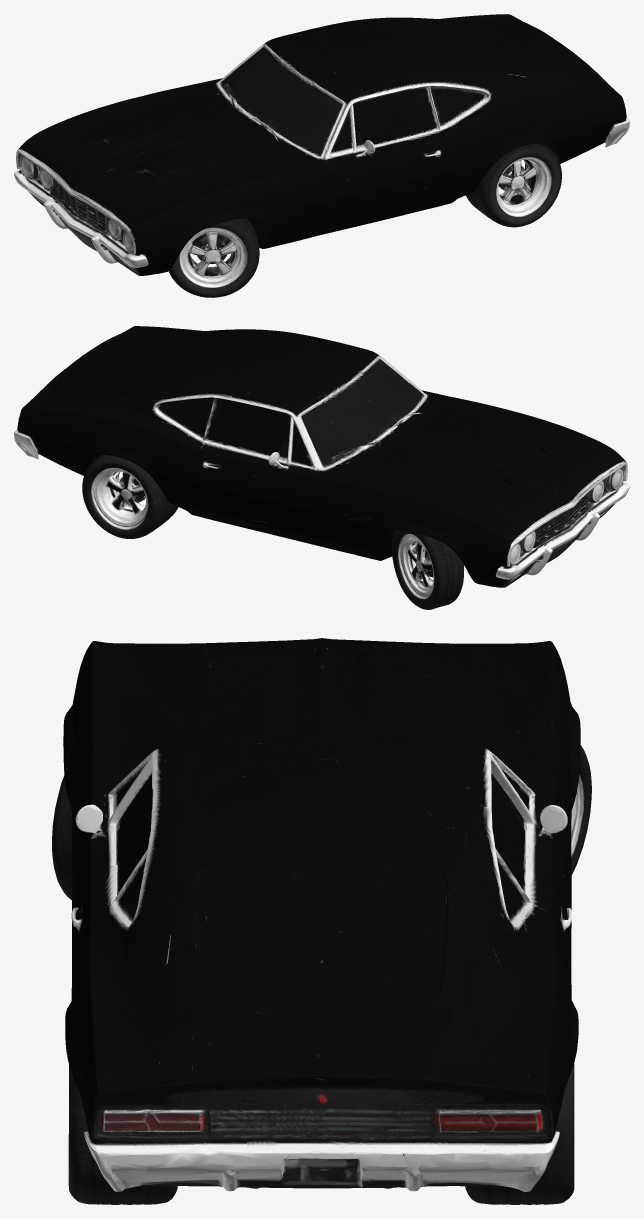
Rendered from muscle.glb.
The picture shows the model from 3 angles, top to bottom: view 1: azimuth 30°, elevation 25°; view 2: azimuth 150°, elevation 25°; view 3: azimuth 270°, elevation 25°; orthographic projection. The views are drawn at different scales.
Parts seen in each view (by area): view 1: Mesh_0; view 2: Mesh_0; view 3: Mesh_0.
Part boxes in pixels (x1,y1,x2,y2): Mesh_0: (14, 14, 629, 297); Mesh_0: (14, 326, 629, 609); Mesh_0: (52, 638, 591, 1204).
Size of the model in its own units: 1.9 by 0.5646 by 0.8761.
1 material, 1 textured.
